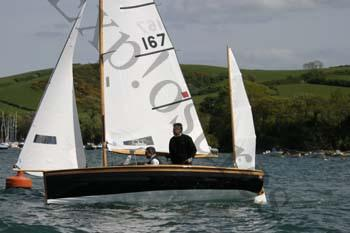Ship: (13, 1, 266, 207)
